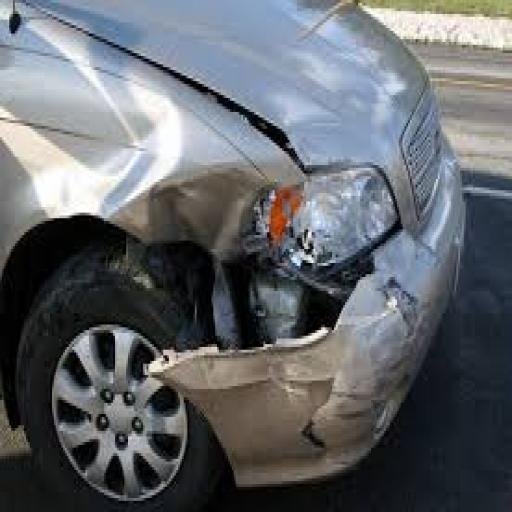broken-light: (105, 53, 461, 305)
